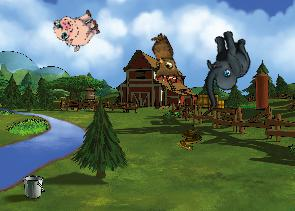elephant: (187, 26, 262, 110)
owl: (138, 31, 184, 85)
pig: (49, 2, 104, 55)
